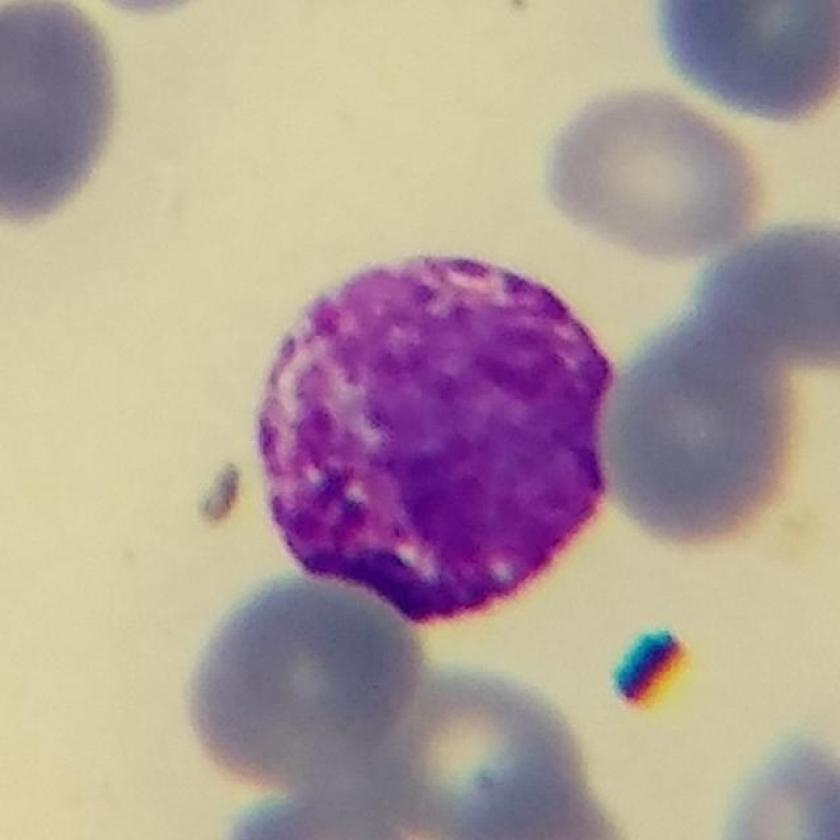basophil: (246, 242, 631, 635)
